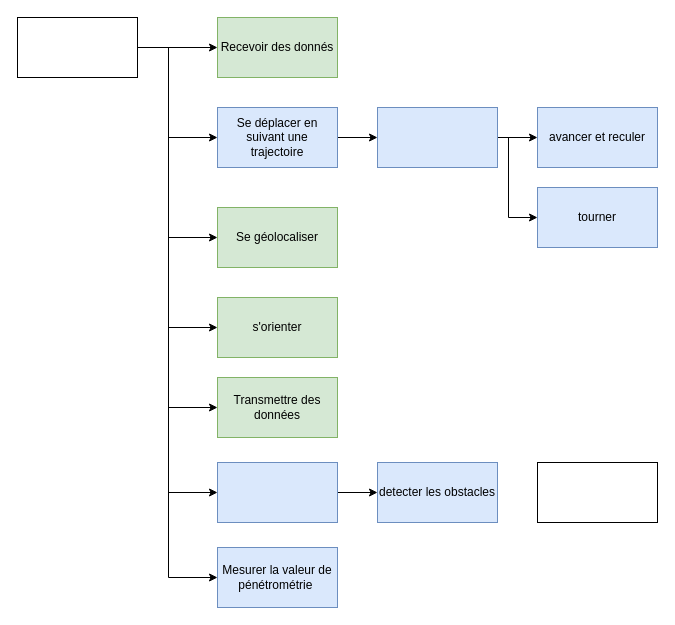
Some shapes in this 675 by 625 pixel diagram are drawn without their labels. Here are the shapes that lost their labels. From the top down, the box of each, then its label:
(16, 16, 138, 78): Deplacer le penetrometre
(376, 106, 498, 168): deplacer les roues de deplacement
(216, 462, 338, 522): Éviter les obstacles
